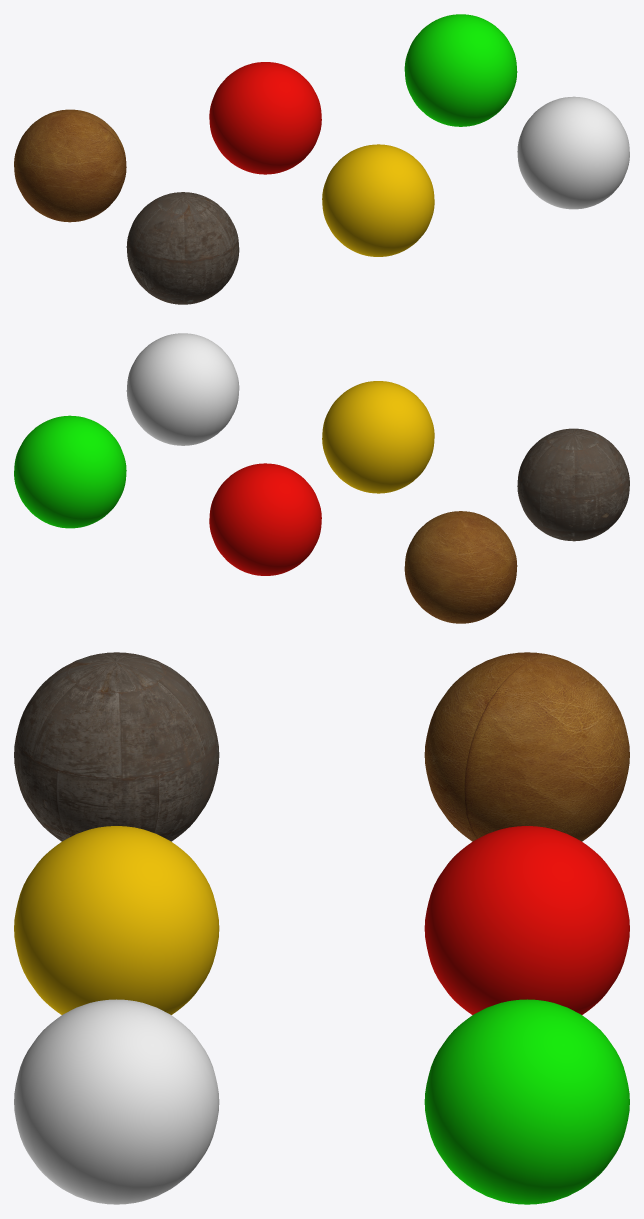
The model's file is pbr.glb.
3 renders of one model, top to bottom at view 1: azimuth 30°, elevation 25°; view 2: azimuth 150°, elevation 25°; view 3: azimuth 270°, elevation 25°, orthographic. The views are drawn at different scales.
Parts seen in each view (by area): view 1: Sphere.001, Sphere.002, Sphere.003, Sphere.004, Sphere.005, Sphere.006; view 2: Sphere.001, Sphere.002, Sphere.003, Sphere.004, Sphere.005, Sphere.006; view 3: Sphere.001, Sphere.006, Sphere.002, Sphere.003, Sphere.004, Sphere.005.
Boxes of the visible parts, left/top/right/bottom form: Sphere.001: left=517, top=96, right=629, bottom=209; Sphere.002: left=322, top=144, right=434, bottom=256; Sphere.003: left=126, top=192, right=239, bottom=304; Sphere.004: left=209, top=62, right=321, bottom=174; Sphere.005: left=14, top=109, right=126, bottom=222; Sphere.006: left=404, top=14, right=517, bottom=126; Sphere.001: left=126, top=333, right=239, bottom=445; Sphere.002: left=322, top=381, right=434, bottom=493; Sphere.003: left=517, top=428, right=629, bottom=541; Sphere.004: left=209, top=463, right=321, bottom=575; Sphere.005: left=404, top=511, right=517, bottom=623; Sphere.006: left=14, top=415, right=126, bottom=528; Sphere.001: left=14, top=999, right=219, bottom=1204; Sphere.006: left=424, top=999, right=629, bottom=1204; Sphere.002: left=14, top=826, right=219, bottom=1014; Sphere.003: left=14, top=652, right=219, bottom=841; Sphere.004: left=424, top=826, right=629, bottom=1014; Sphere.005: left=424, top=652, right=629, bottom=841.
Bounding box in the file's own units: 5 × 1 × 3.
Materials: 6 (2 with a texture image).
